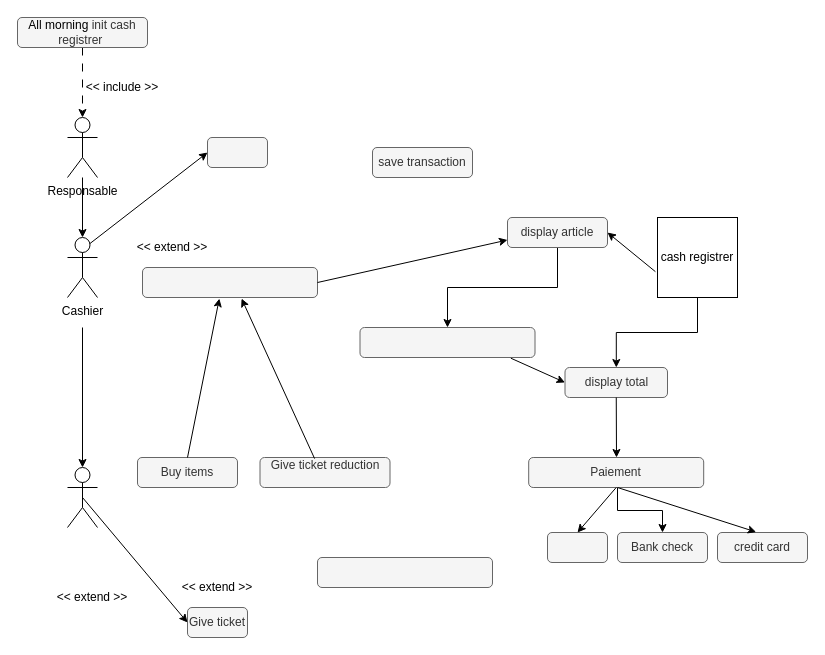
Some shapes in this 825 by 655 pixel diagram are drawn without their labels. The box of each missing label's shape, as (x1, y1, x2, y2) in pixels:
Cash: (546, 532, 608, 562)
Client: (66, 466, 98, 528)
finish scan all article: (359, 326, 535, 358)
print ticket: (206, 136, 268, 168)
scan all article: (142, 266, 318, 298)
transmission transaction: (316, 556, 492, 588)
